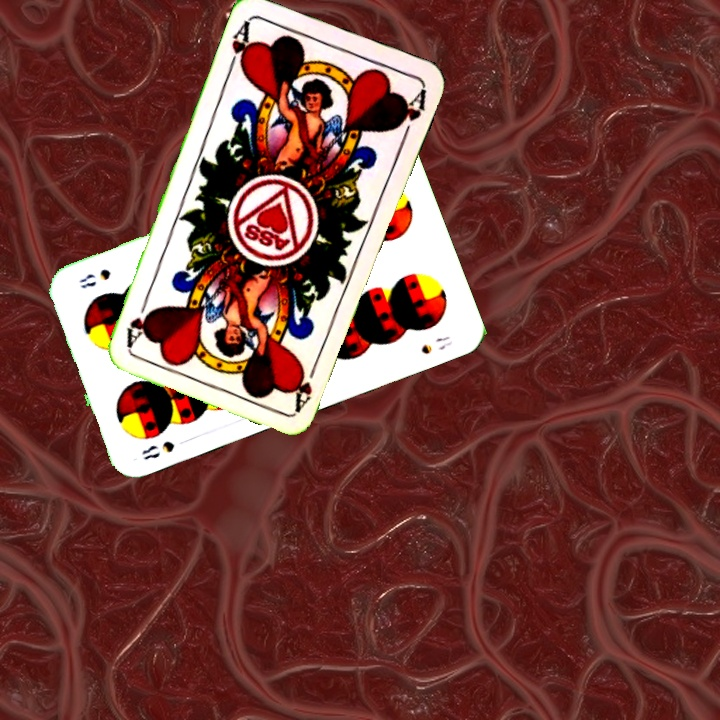HA: (223, 18, 256, 76), (291, 355, 322, 412)
S8: (137, 436, 177, 463)
